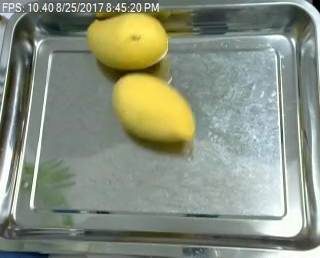Mango: (110, 68, 196, 145), (83, 11, 166, 74)
